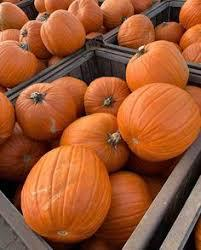pumpkin: (10, 52, 201, 241), (0, 3, 88, 84), (121, 0, 201, 63), (37, 0, 152, 25)
